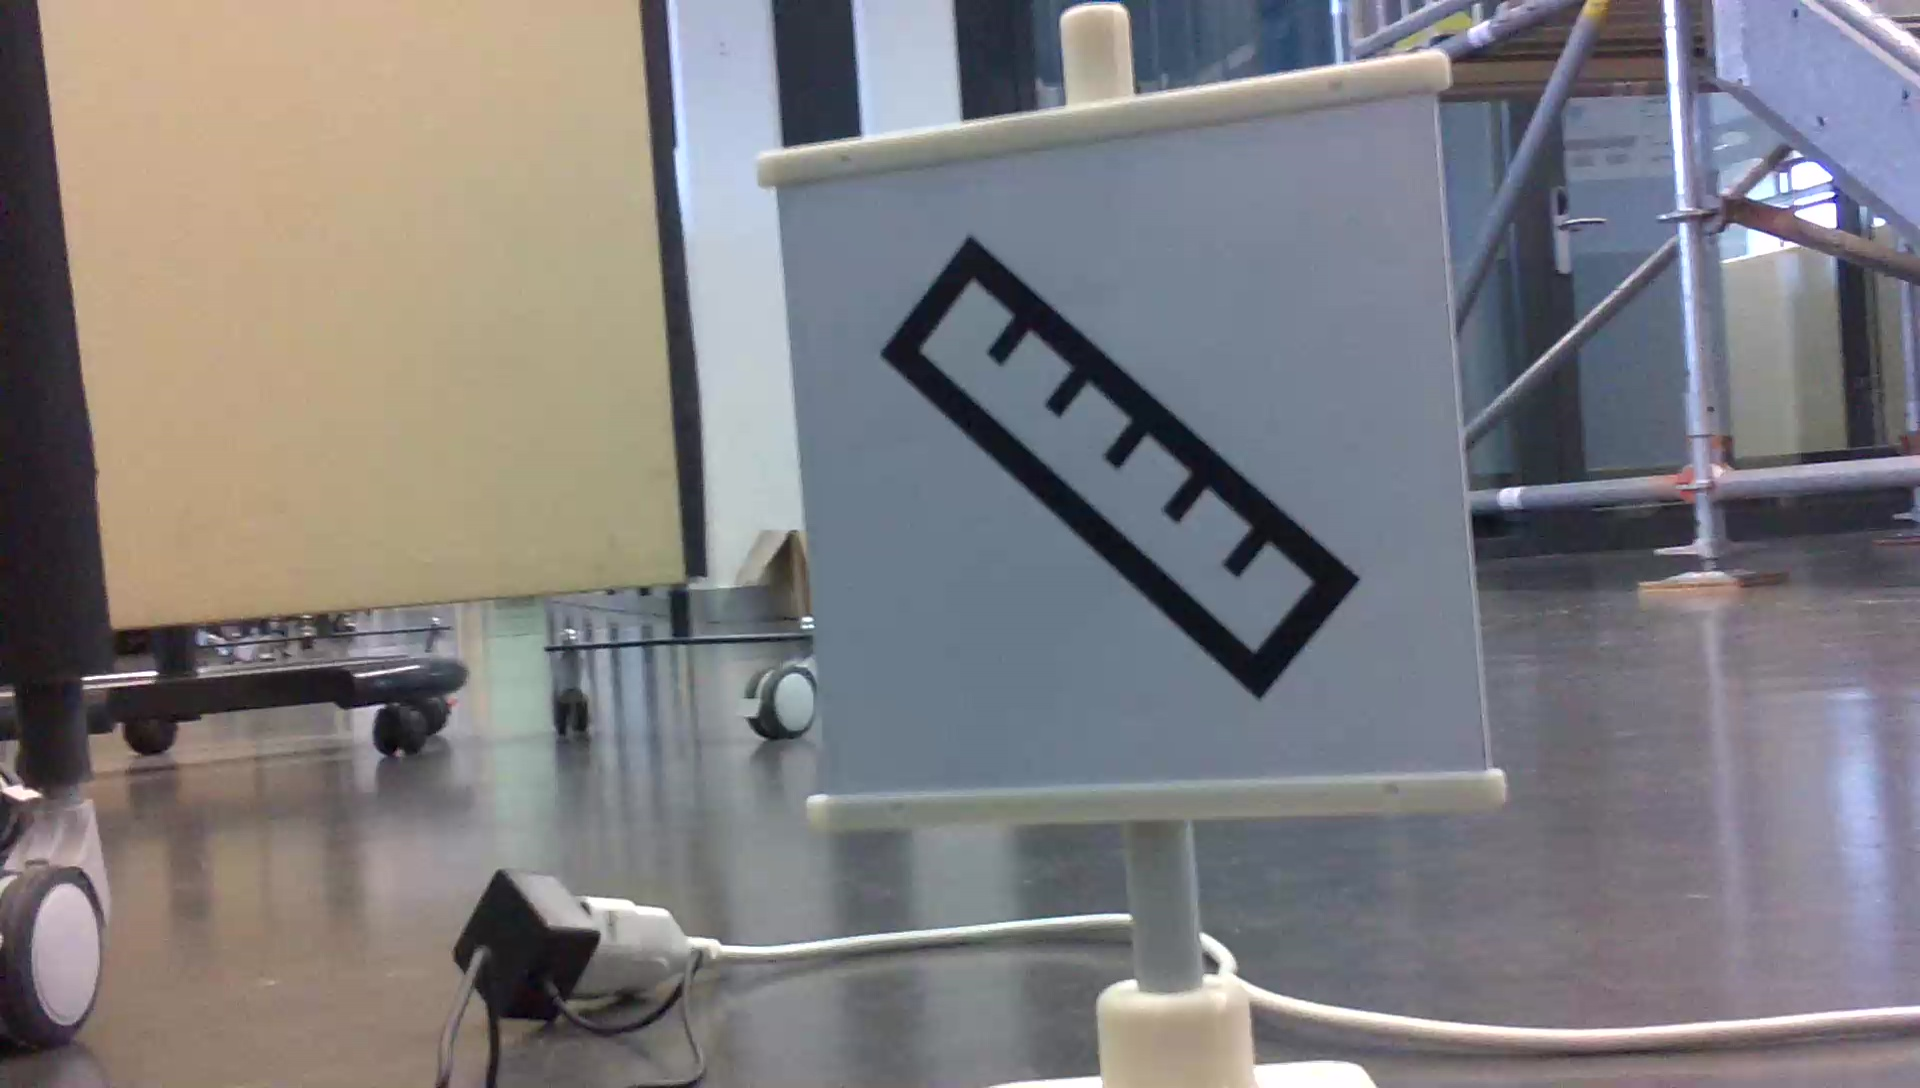ruler: (878, 220, 1379, 710)
